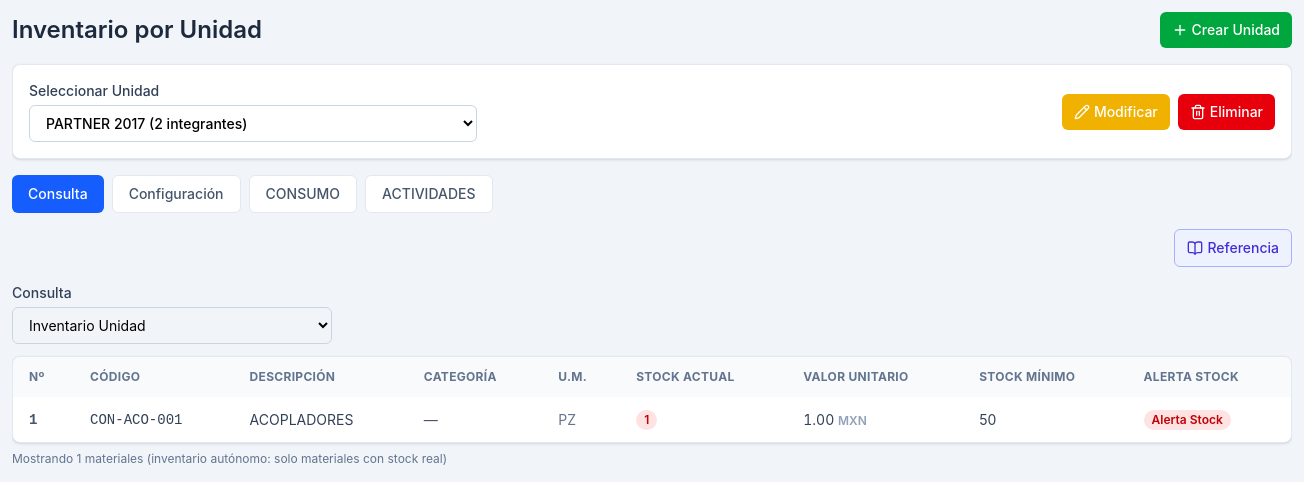
Test case: Consulta de Unidad (RF-9..RF-16) › RF-11 REQ-UNI-012: muestra la descripción de la unidad
This screenshot has width=1304, height=482.
Select "Descripción" in the dropdown labelled "Consulta" at (172, 326), box left=12, top=307, right=332, bottom=344
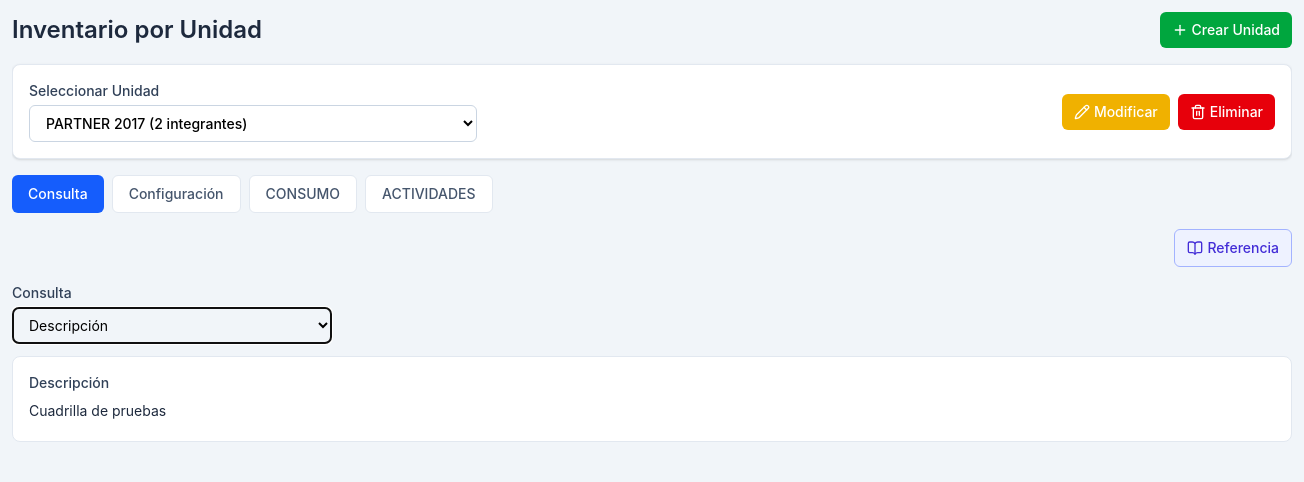
Expected: the text with test id "unidad-descripcion" reads "Cuadrilla de pruebas", left=29, top=402, right=166, bottom=419
Expected: the text "CON-ACO-001" is gone
